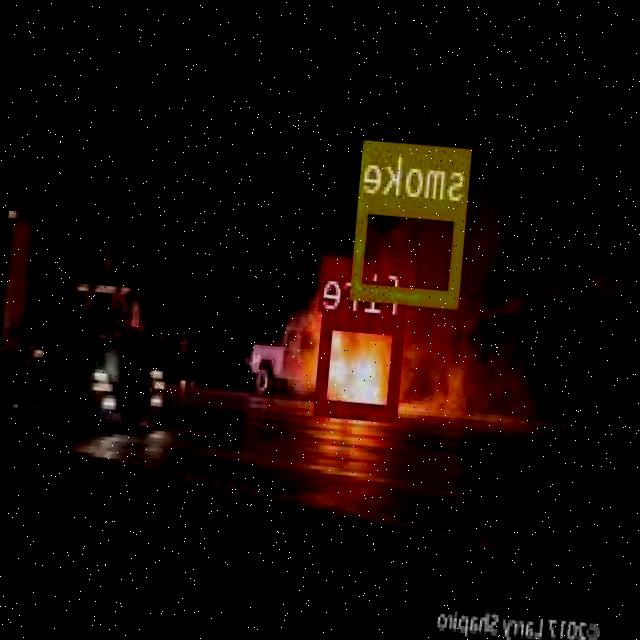fire: (317, 311, 407, 419)
smoke: (352, 192, 469, 304)
